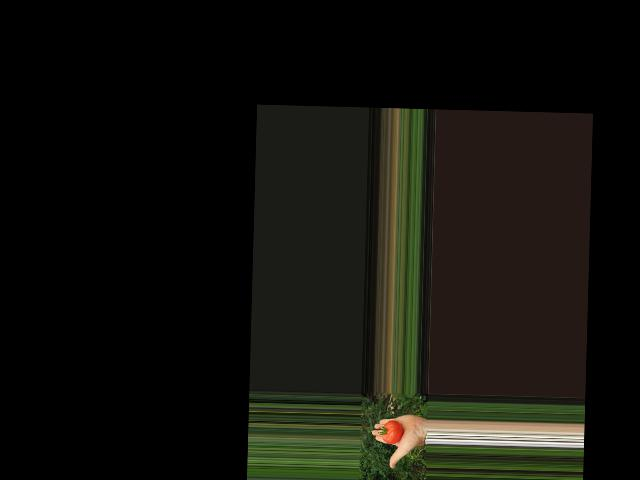tomato: (382, 419, 403, 444)
